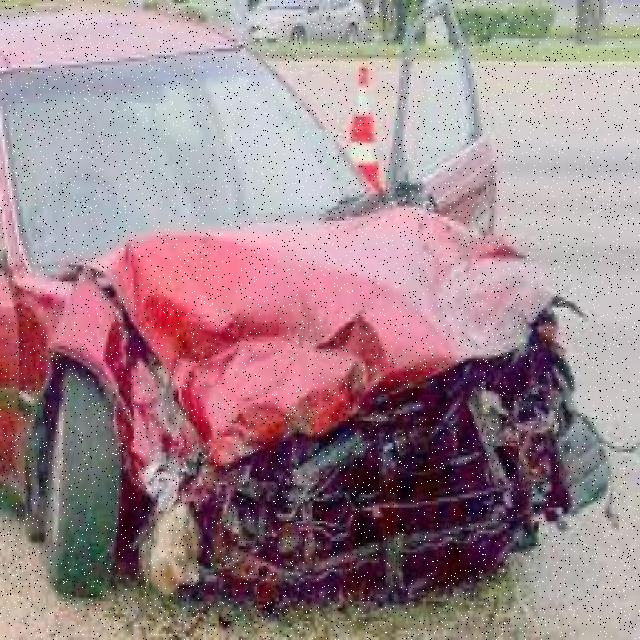damage: (25, 202, 610, 602)
